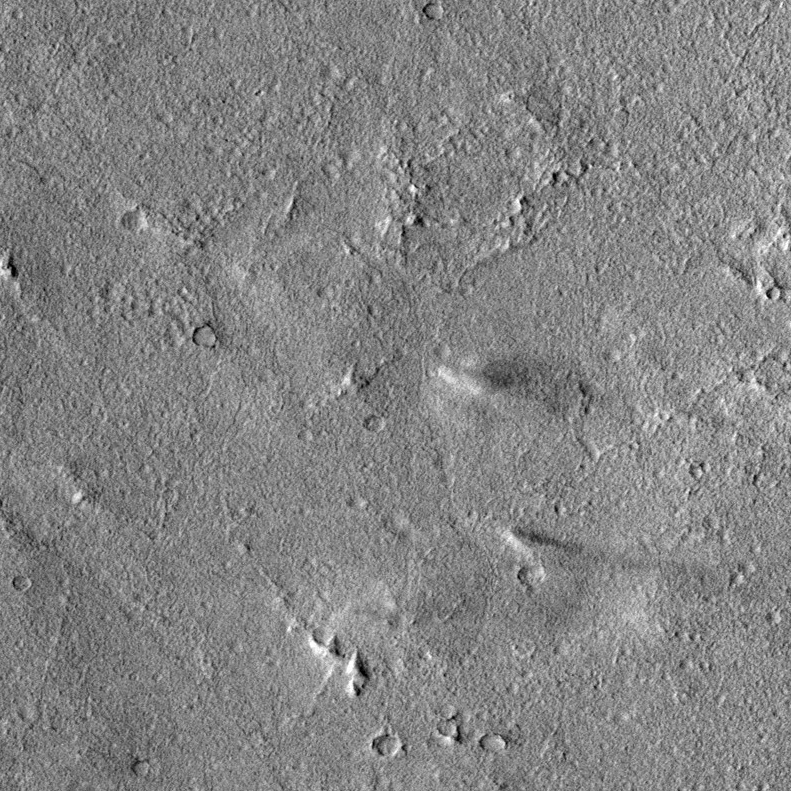dust_devil: (431, 357, 597, 423), (500, 525, 568, 561)
